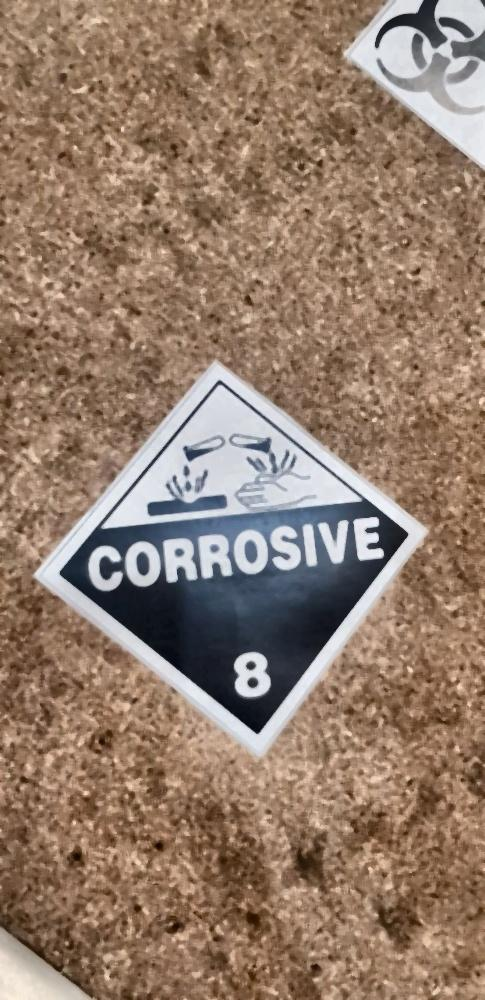corrosive: (30, 362, 435, 759)
